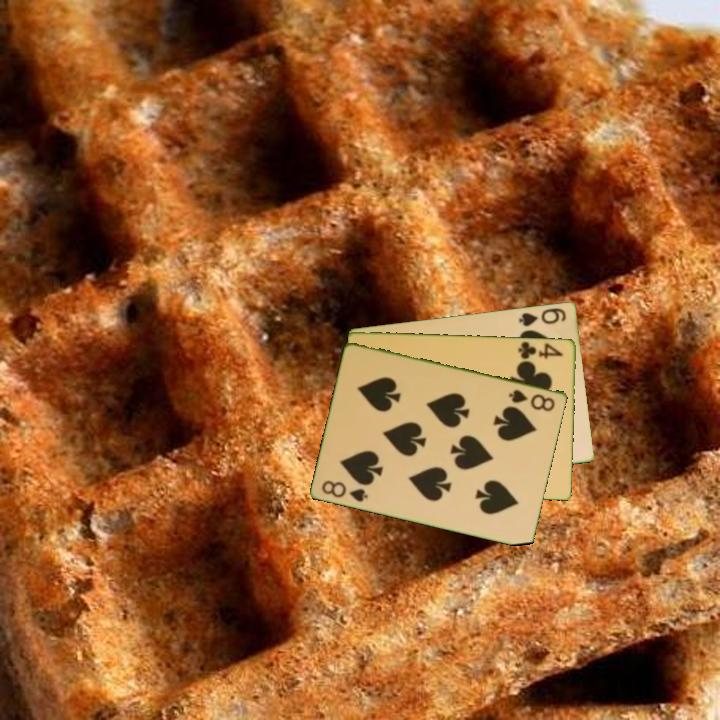4c: (515, 338, 567, 362)
6s: (516, 304, 569, 329)
8s: (319, 476, 371, 505), (505, 386, 558, 414)
